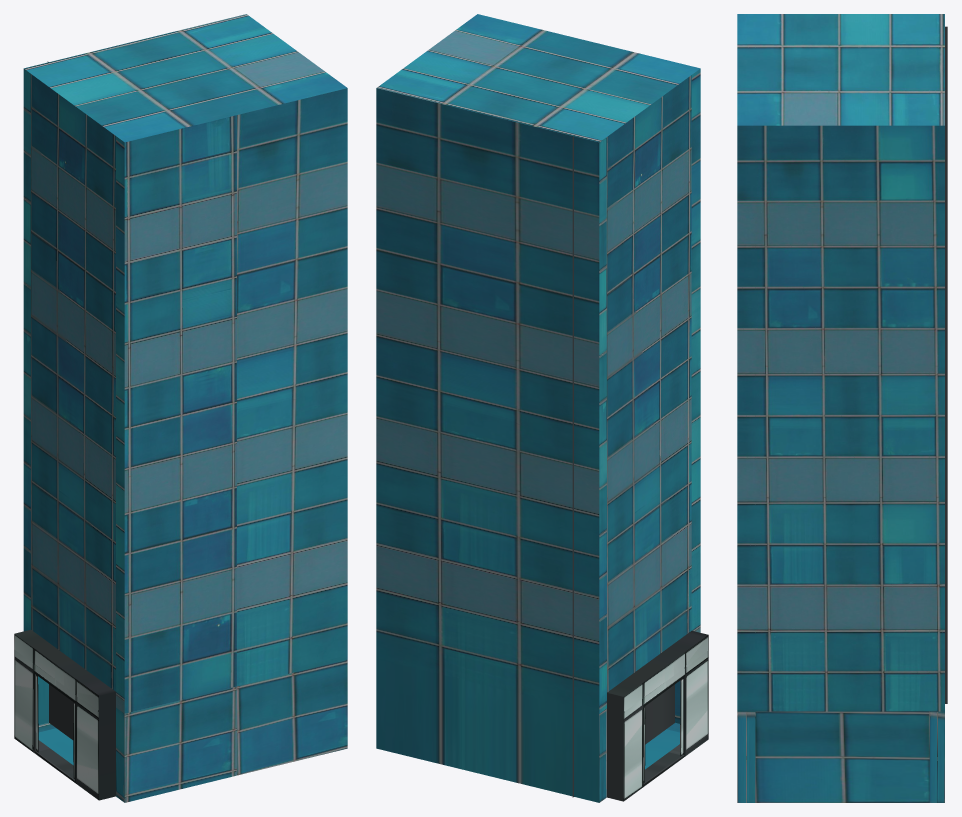
The model's file is business gebouw.fbx.
The picture shows the model from 3 angles, left to right: view 1: azimuth 30°, elevation 25°; view 2: azimuth 150°, elevation 25°; view 3: azimuth 270°, elevation 25°; orthographic projection. The views are drawn at different scales.
Visible parts, largest first — view 1: Gebouw, Deurgedeelte, Gebouw.001; view 2: Gebouw, Deurgedeelte, Gebouw.001, Deurgedeelte.001; view 3: Gebouw, Gebouw.001.
Part boxes in pixels (<box>): Gebouw: <box>23,14,347,802</box>; Deurgedeelte: <box>14,629,115,800</box>; Gebouw.001: <box>47,61,73,739</box>; Gebouw: <box>376,14,700,802</box>; Deurgedeelte: <box>607,631,708,801</box>; Gebouw.001: <box>572,136,674,797</box>; Deurgedeelte.001: <box>643,675,685,786</box>; Gebouw: <box>737,14,944,802</box>; Gebouw.001: <box>945,26,947,703</box>.
Size of the model in its own units: 30398 by 80014 by 22529.
